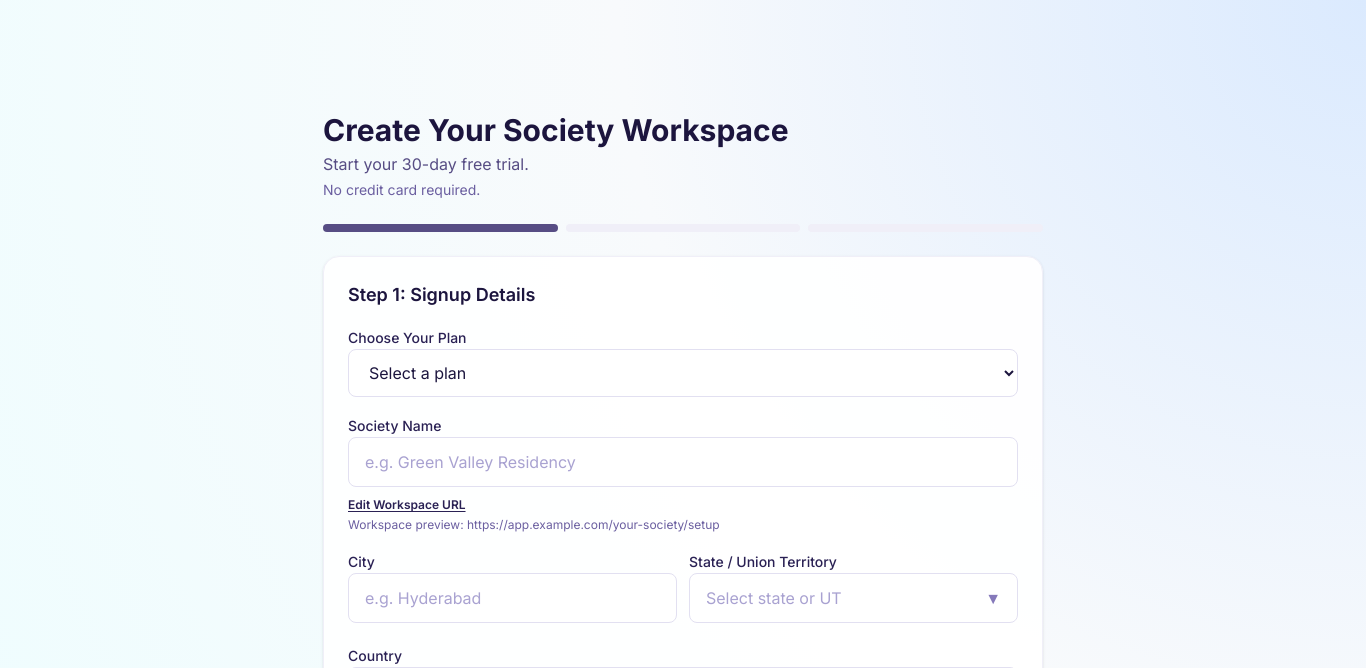
it: SocietySignupPage › allows user to edit workspace URL and validate it on blur
The width and height of the screenshot is (1366, 668).
Click the button "Edit Workspace URL" at (407, 505), box [348, 497, 466, 513]
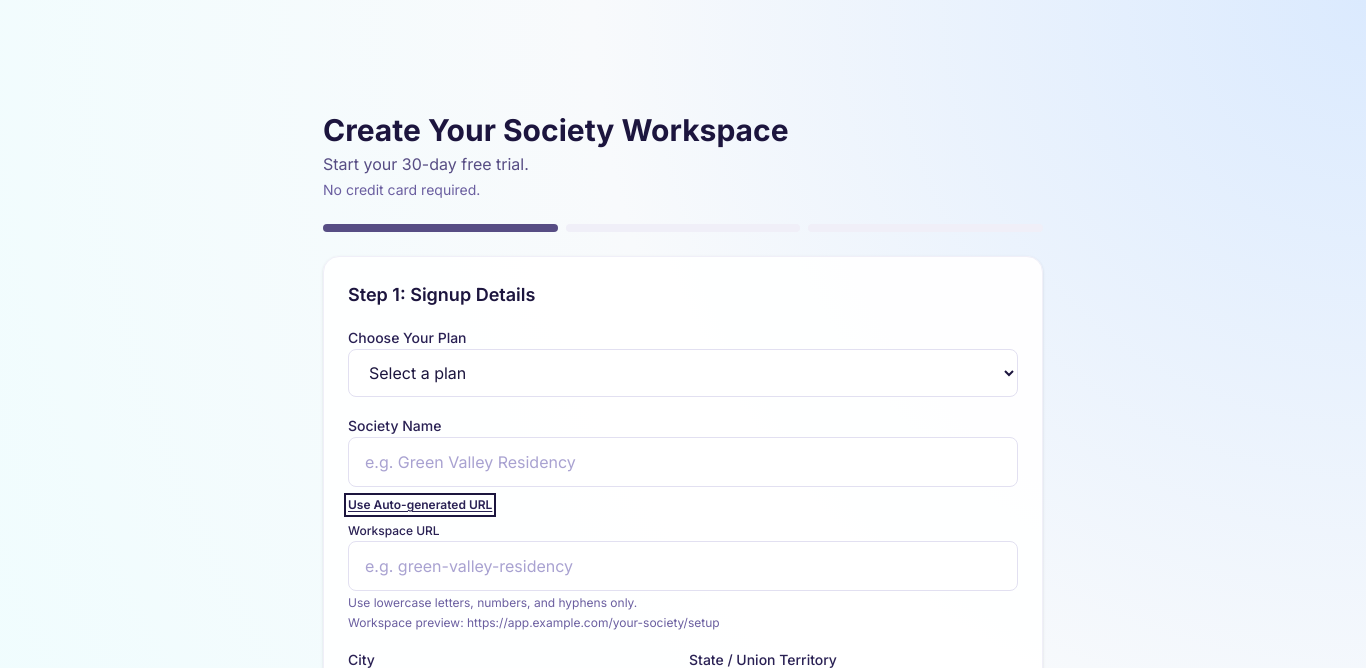
Type "custom-url" into the field labelled "Workspace URL" at (683, 566), box [348, 541, 1018, 591]
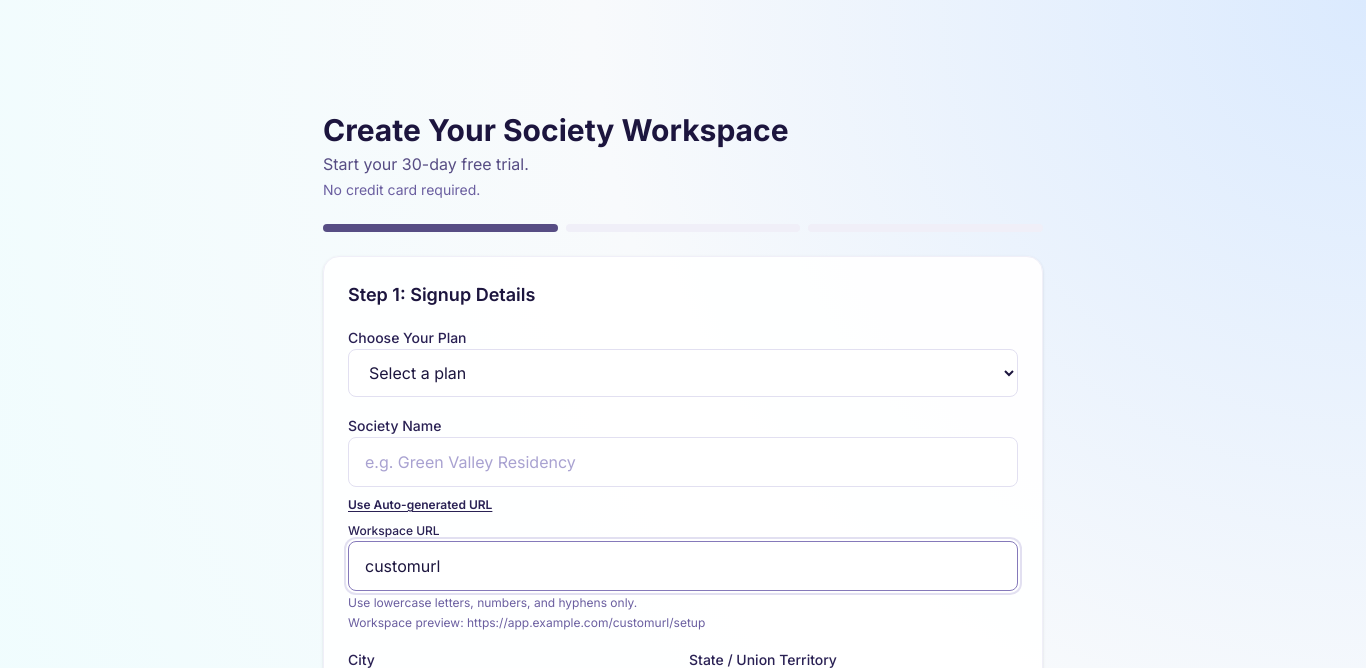
Press Tab
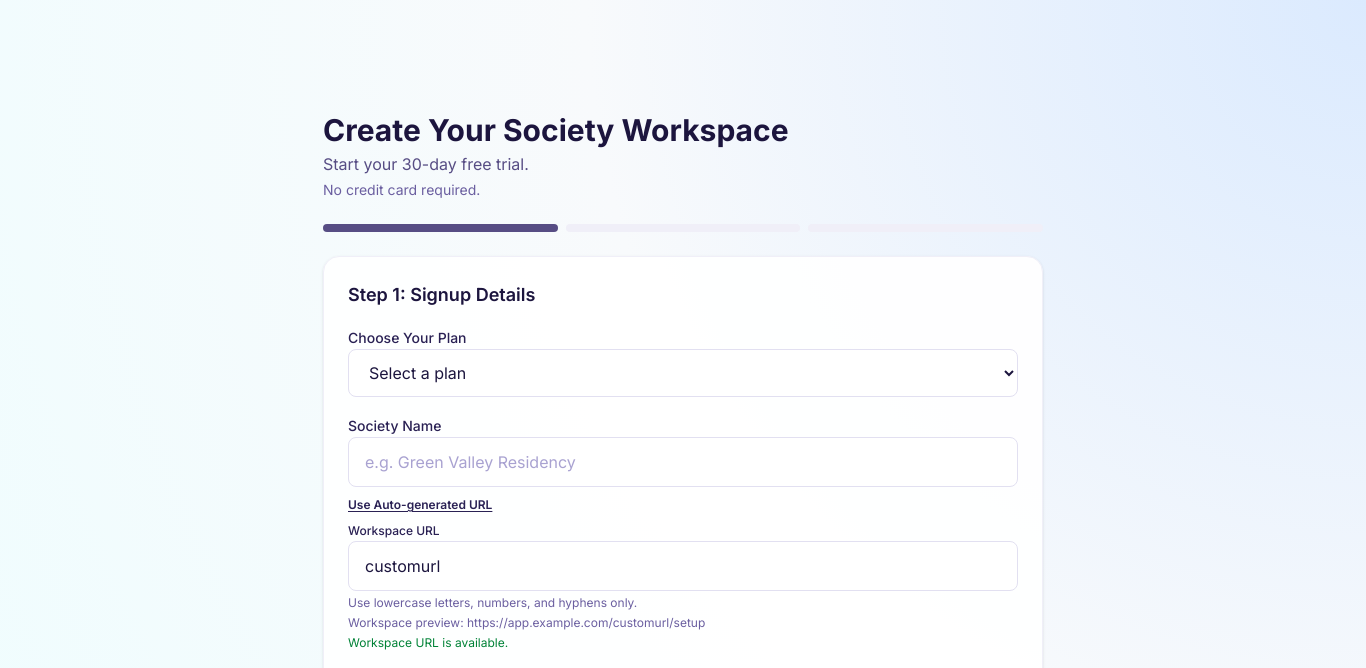
expect the text "Workspace preview: https://app.example.com/customurl/setup" is shown: met, box [348, 615, 705, 630]
expect the text "Workspace URL is available." is shown: met, box [348, 635, 508, 650]
